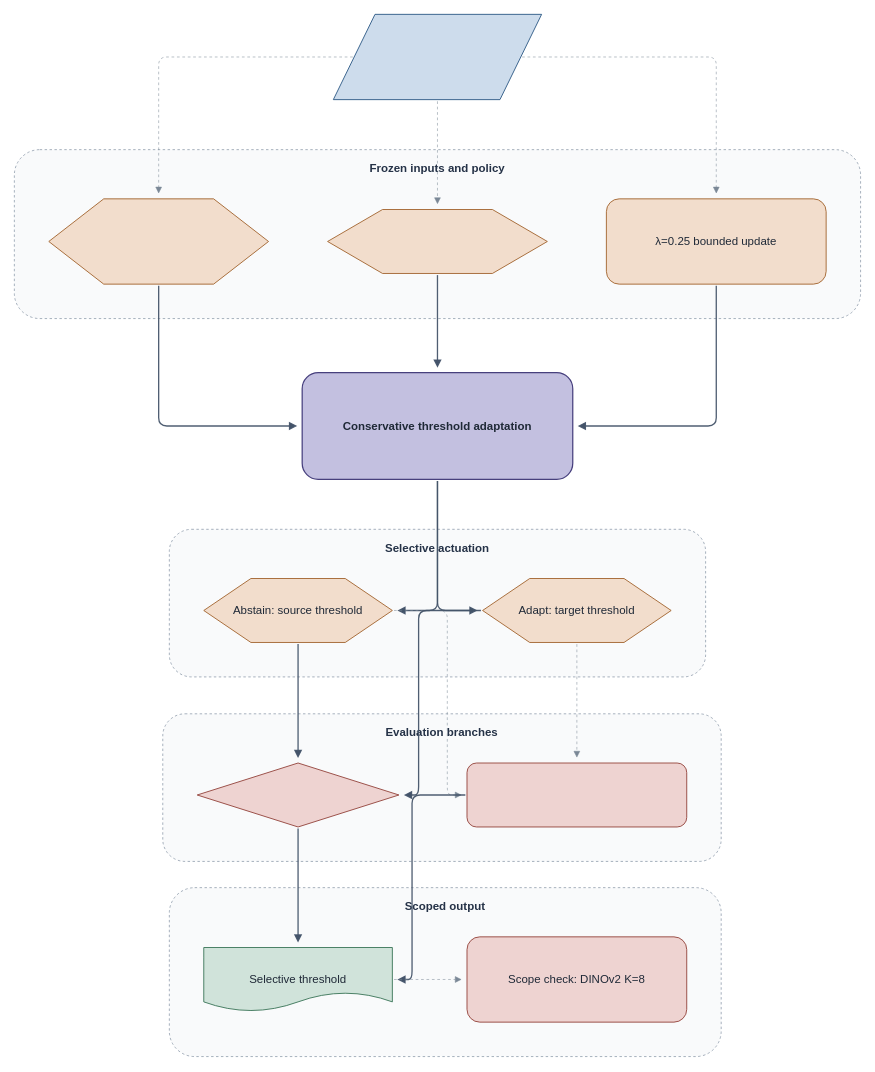
The diagram is 875 pixels wide and 1072 high, and some of its shapes have lost their labels. Each missing label, with the centre of its shape:
"Median score offset" goes at point 158,241.
"Q50 abstention gate" goes at point 437,241.
"Safety validation" goes at point 576,794.
"Source threshold + K=8 normals" goes at point 437,56.
"Utility validation" goes at point 297,794.
